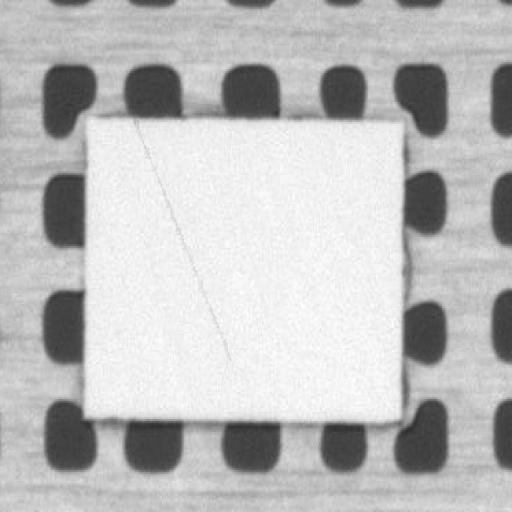DIE_CRACK: (177, 89, 304, 269)
